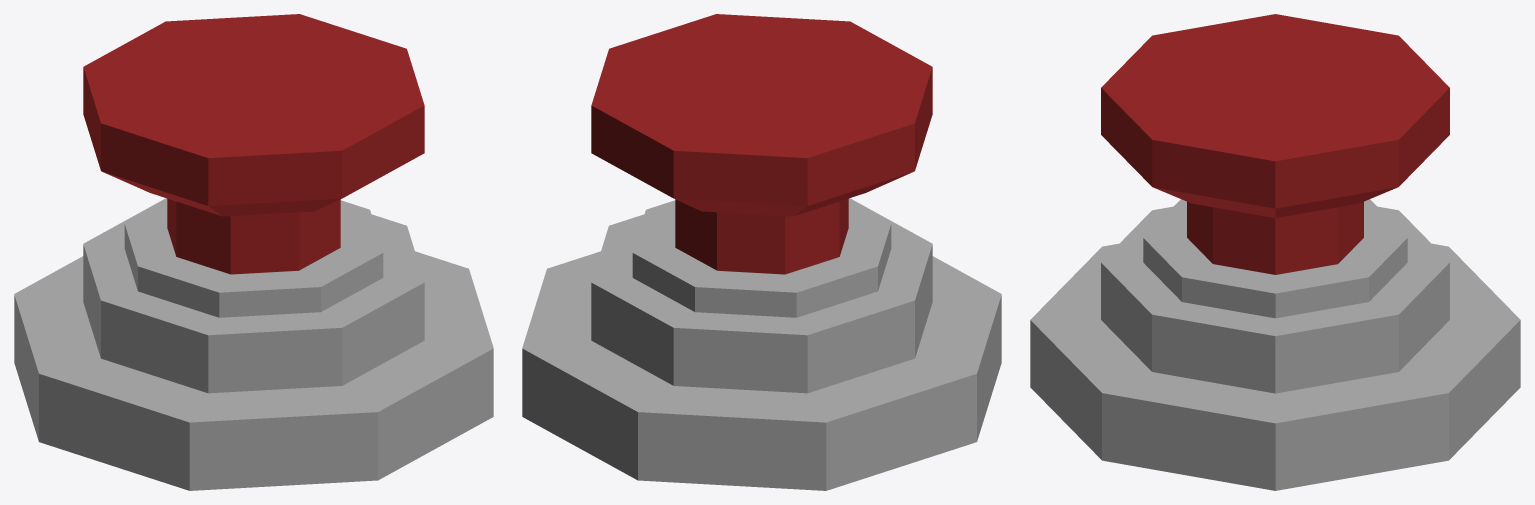
Rendered from Button.fbx.
3 renders of one model, left to right at view 1: azimuth 30°, elevation 25°; view 2: azimuth 150°, elevation 25°; view 3: azimuth 270°, elevation 25°, orthographic.
Parts seen in each view (by area): view 1: ButtonBase, Button; view 2: ButtonBase, Button; view 3: ButtonBase, Button.
Part boxes in pixels (bbox=[...]): ButtonBase: bbox=[14, 198, 493, 490]; Button: bbox=[83, 14, 424, 274]; ButtonBase: bbox=[522, 198, 1001, 490]; Button: bbox=[591, 14, 932, 274]; ButtonBase: bbox=[1030, 199, 1520, 490]; Button: bbox=[1101, 14, 1449, 274].
Bounding box in the file's own units: 0.0863 × 0.0582 × 0.0863.
